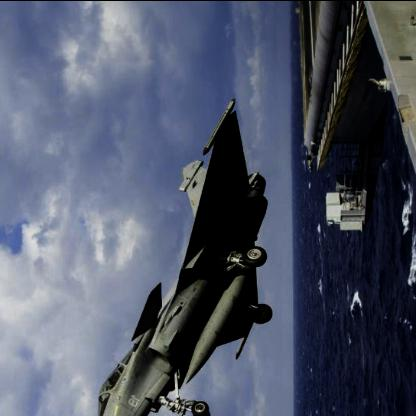RQ4: (97, 97, 272, 415)
